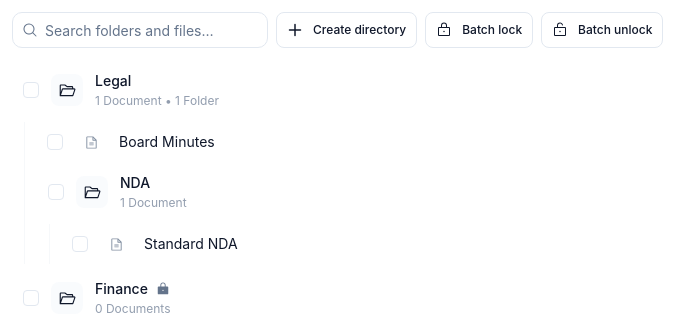
DealRoomFolderTree toolbar › selecting a folder recursively selects nested folders and documents
Click the checkbox named "Legal" at (31, 90), box x1=23 y1=82 x2=39 y2=98
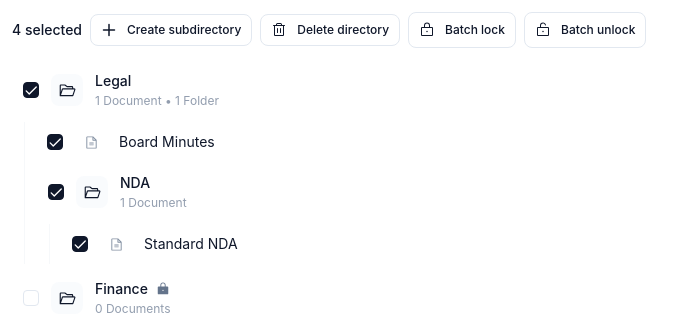
Expected: the text "4 selected" is shown, x1=12 y1=20 x2=82 y2=40
